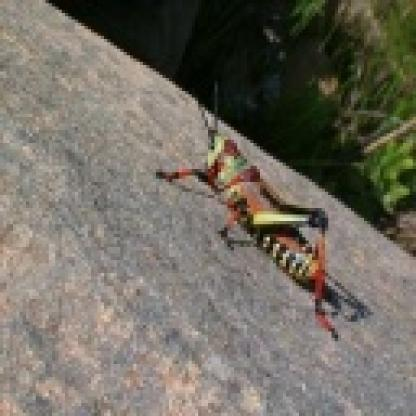grasshopper: (166, 84, 370, 343)
